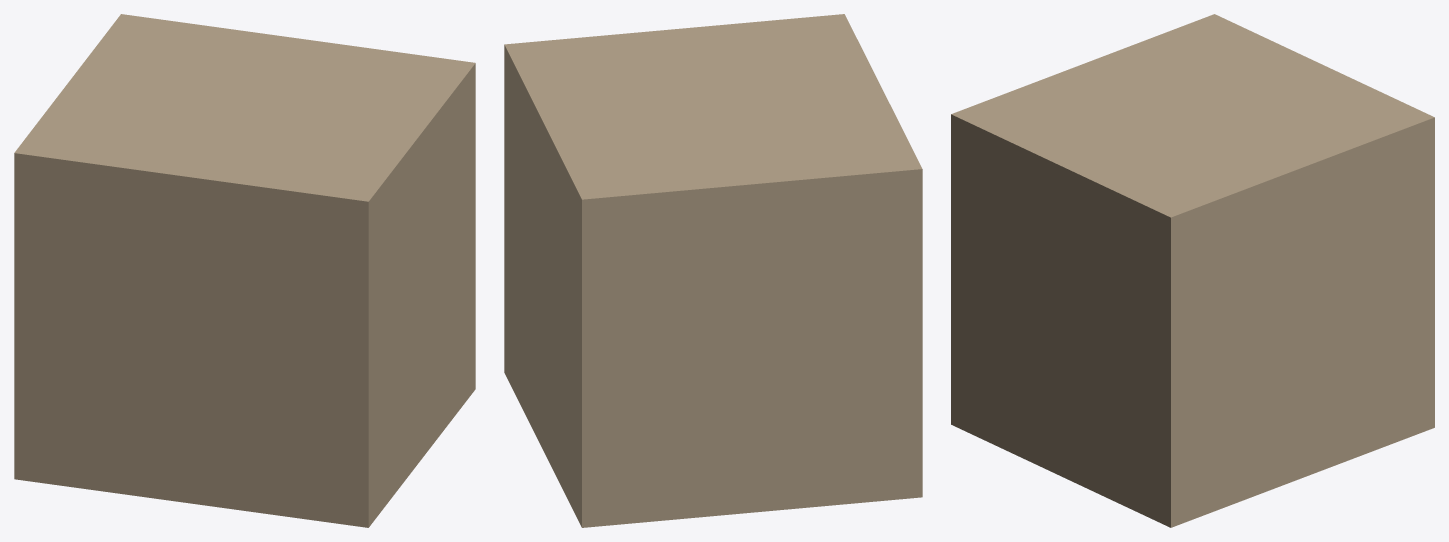
Rendered from bld_106338953.dae.
The picture shows the model from 3 angles, left to right: view 1: azimuth 30°, elevation 25°; view 2: azimuth 150°, elevation 25°; view 3: azimuth 270°, elevation 25°; orthographic projection. The views are drawn at different scales.
Parts seen in each view (by area): view 1: bld_106338953; view 2: bld_106338953; view 3: bld_106338953.
Boxes of the visible parts, left/top/right/bottom form: bld_106338953: left=14, top=14, right=475, bottom=527; bld_106338953: left=504, top=14, right=922, bottom=527; bld_106338953: left=951, top=14, right=1434, bottom=527.
Size of the model in its own units: 11.26 by 11.3 by 8.
